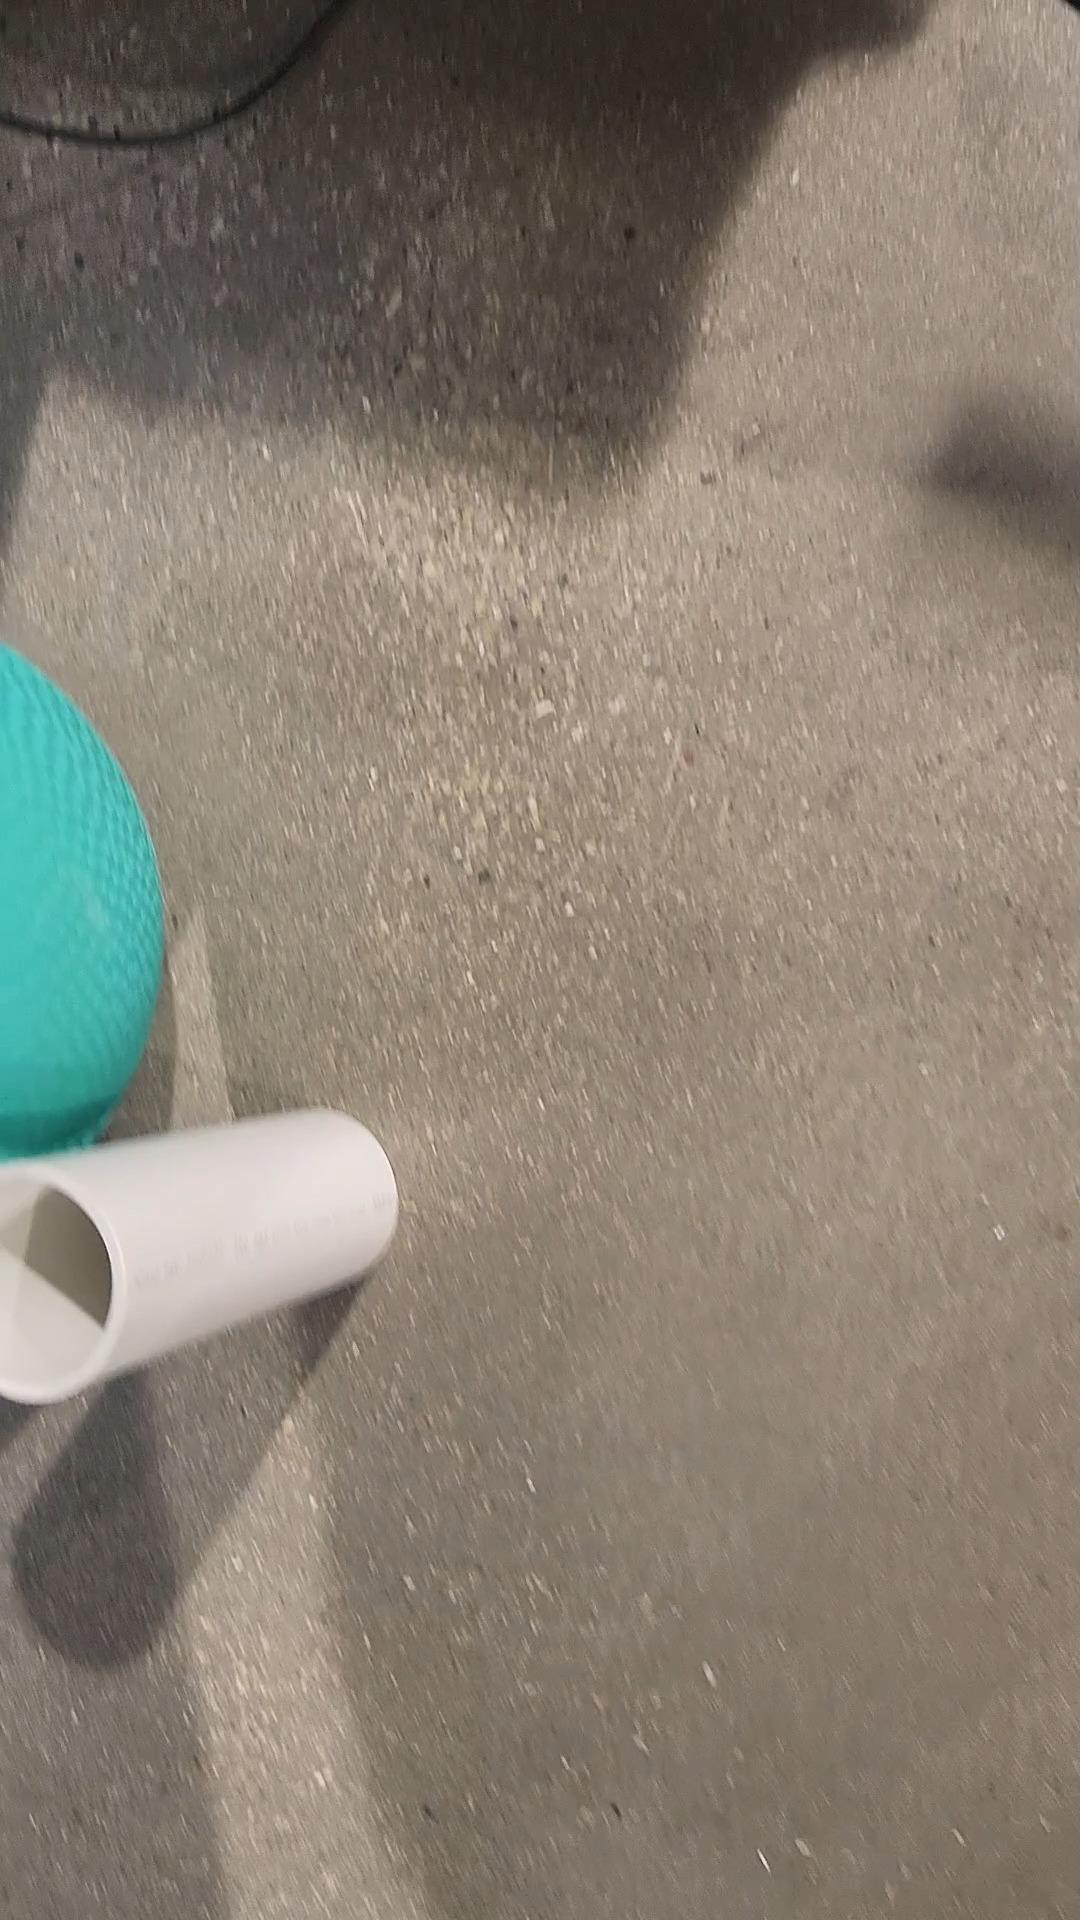algae: (0, 642, 158, 1170)
coral: (0, 1105, 398, 1400)
